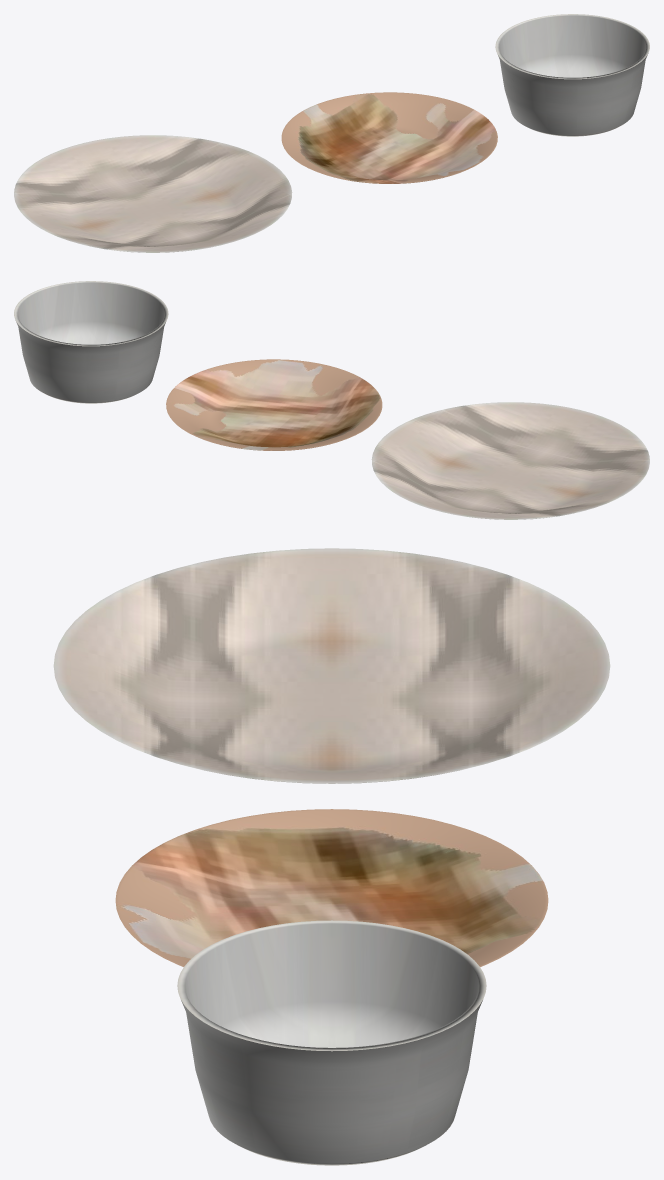
The model's file is MAR-12.glb.
3 renders of one model, top to bottom at view 1: azimuth 30°, elevation 25°; view 2: azimuth 150°, elevation 25°; view 3: azimuth 270°, elevation 25°, orthographic. The views are drawn at different scales.
Bounding box in the file's own units: 0.68 × 0.07 × 0.27.
6 materials, 6 textured.
